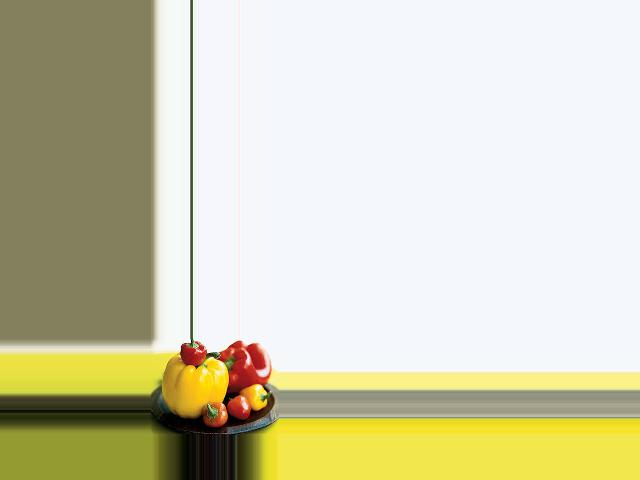bell_pepper: (242, 383, 270, 409)
